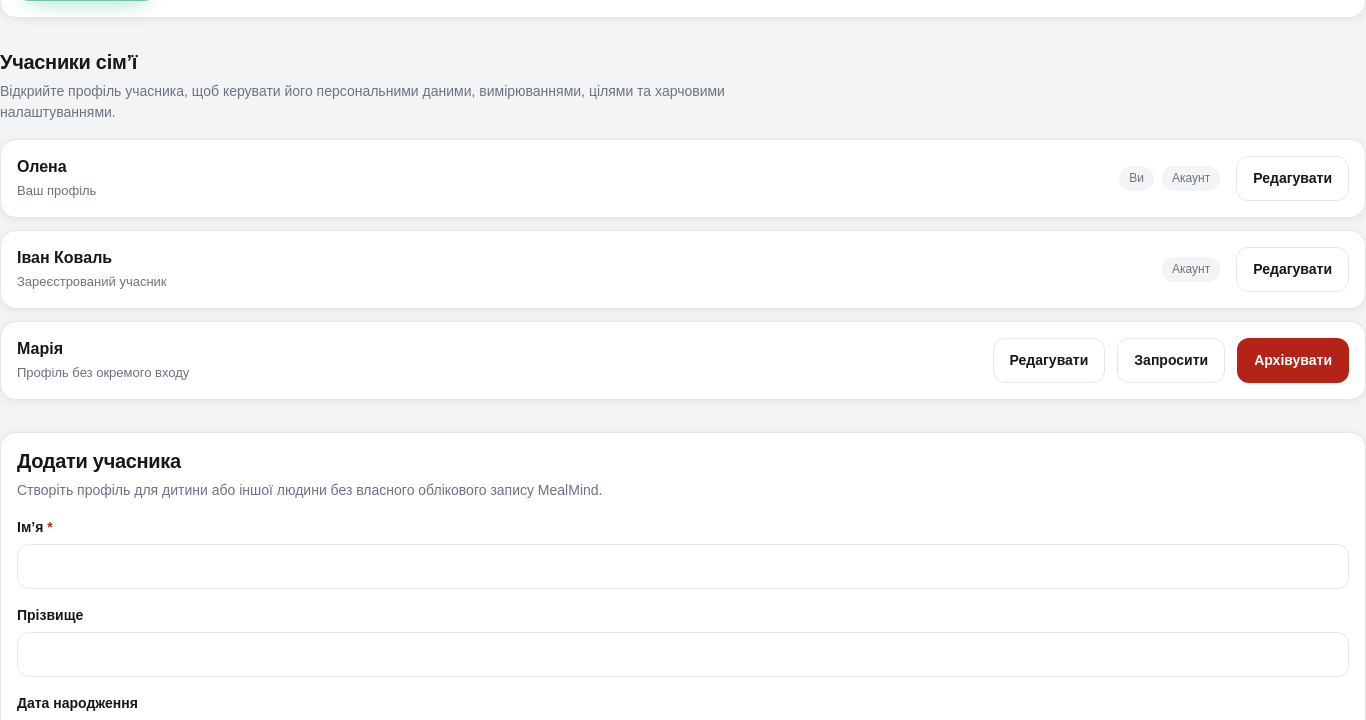
FamilyManagement › opens account invitation management only for a profile without an account
The image size is (1366, 720).
(page scrolled)
Click the button "Запросити". click: (1171, 360)
box: [1117,338,1225,383]
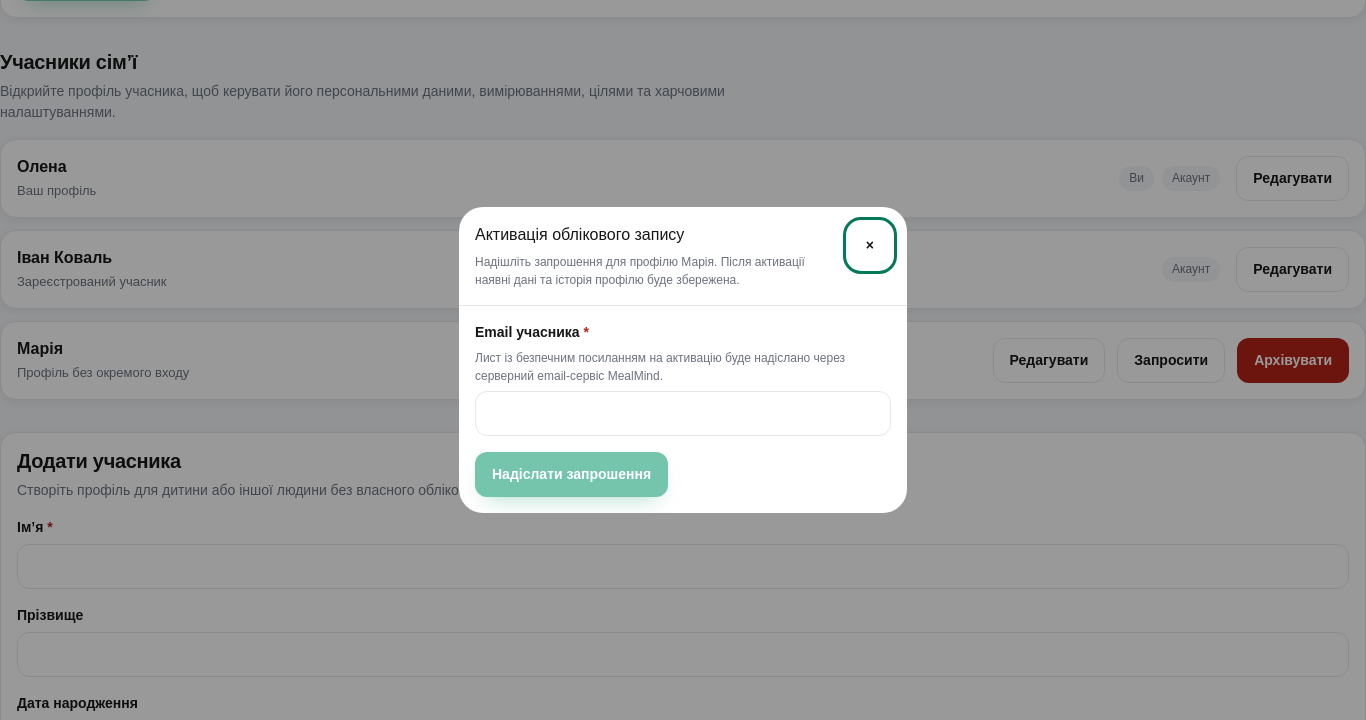
Now the heading "Активація облікового запису" is shown, box [475,226,684,243]
